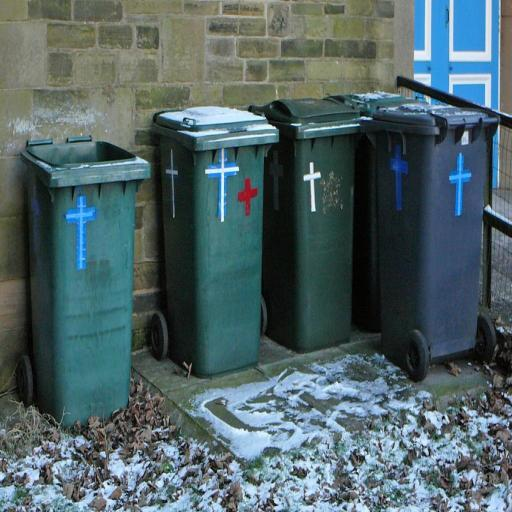trash-can: (152, 89, 282, 376)
